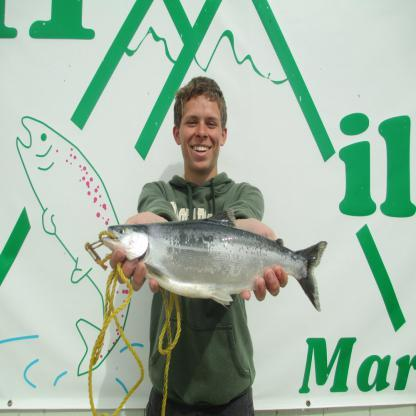fish: (100, 207, 326, 312)
